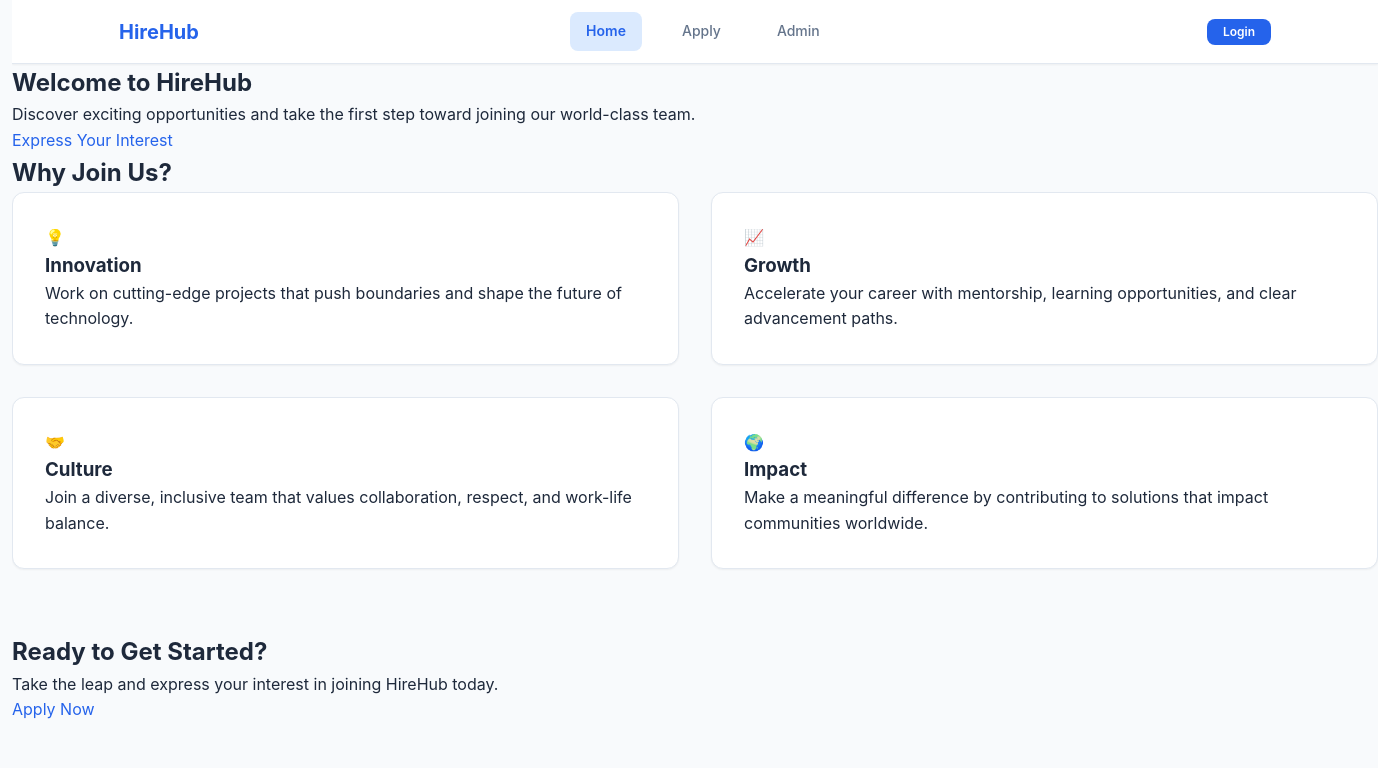
Scenario: App › Navigation between pages › navigates back to home when clicking HireHub logo
Click the link "Apply".
click(701, 31)  # box [682, 22, 721, 39]
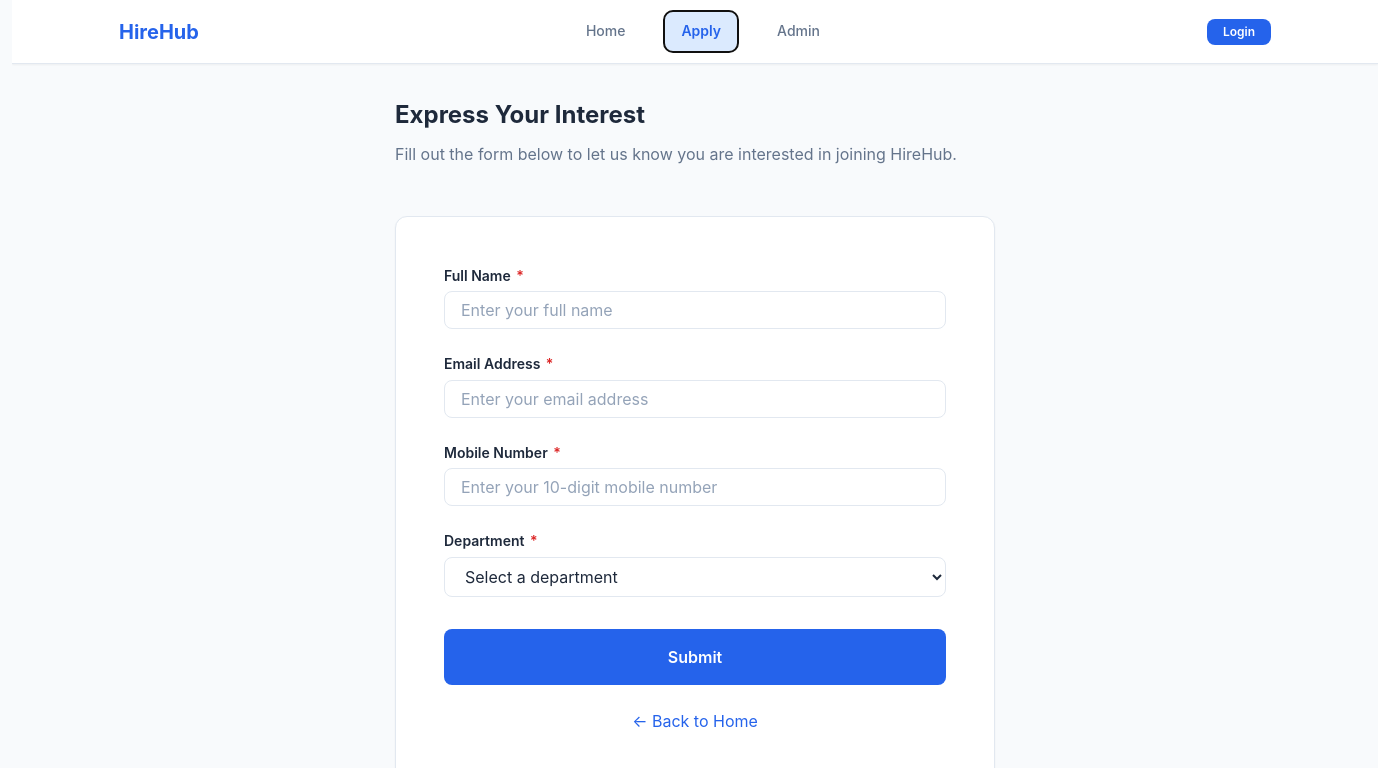
Click the link "HireHub".
click(159, 32)  # box [119, 16, 199, 48]
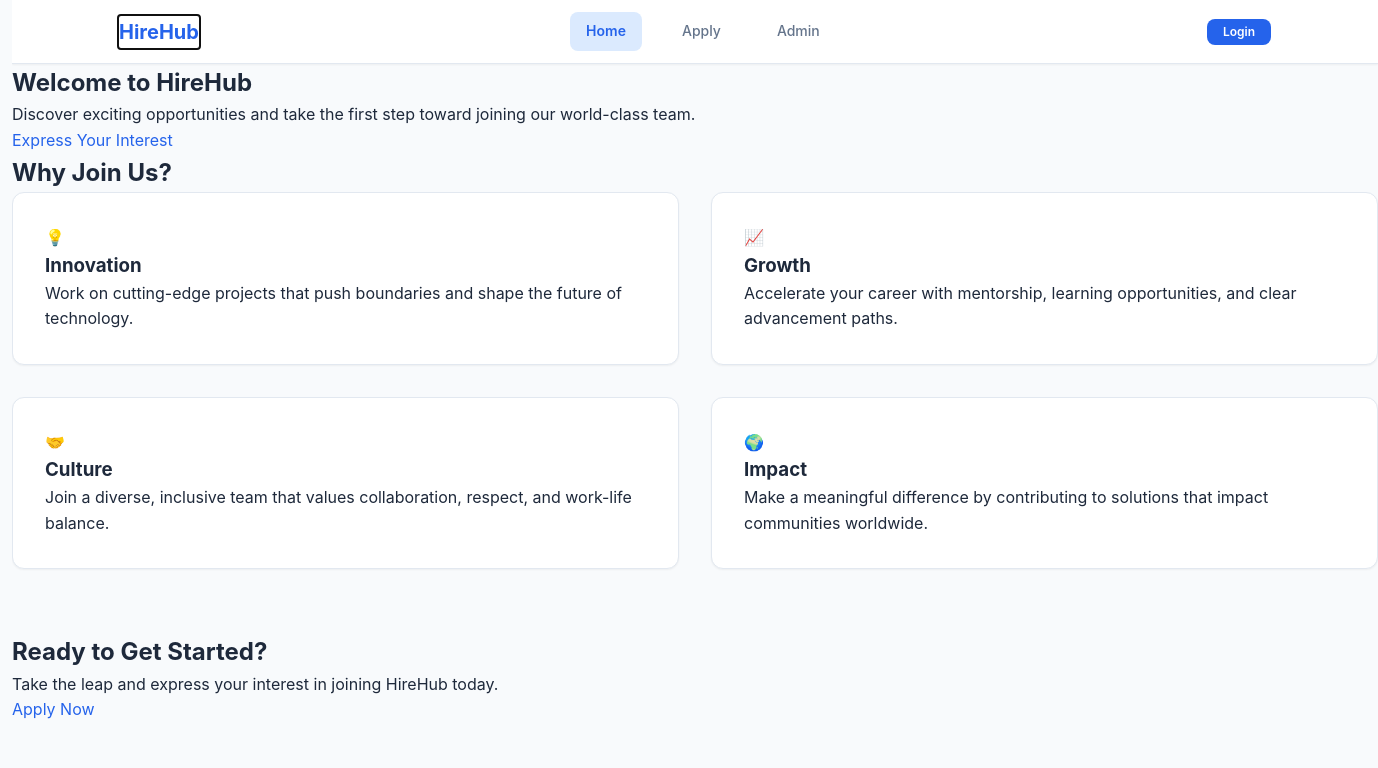
Result: the heading "Welcome to HireHub" is shown at [12, 68, 252, 97]
